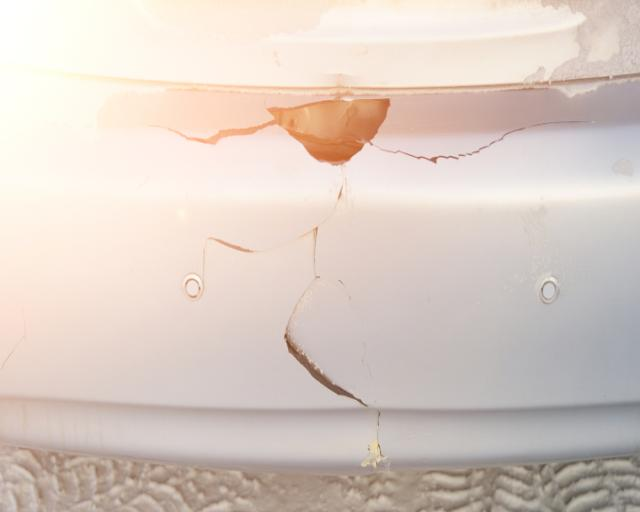crack: (145, 97, 600, 469)
